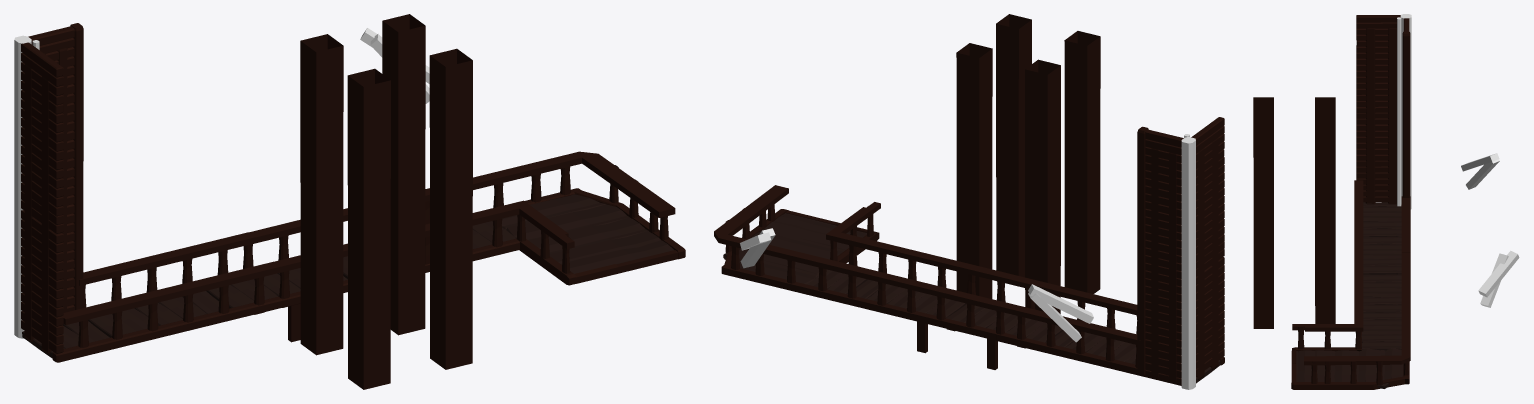
File: Elevators.fbx
3 renders of one model, left to right at view 1: azimuth 30°, elevation 25°; view 2: azimuth 150°, elevation 25°; view 3: azimuth 270°, elevation 25°, orthographic. The views are drawn at different scales.
Visible parts, largest first — view 1: InnerBeam.005, Cube.123, Plank.184, Cube.105, Cube.142, Cube.221, Cube.125, Box093, Cube.143, Cube.201, Cube.202, Cube.122 (+9 smaller); view 2: InnerBeam.005, Cube.123, Box093, Cube.104, Plank.183, Cube.122, Cube.221, Plank.184, Cube.172, Cube.171, Cube.124, Cube.202 (+11 smaller); view 3: InnerBeam.005, Plank.183, Plank.184, Cube.123, Cube.201, Cube.202, Cube.221, Cube.122, Box094, Cube.104, Box093, Cube.142 (+13 smaller).
Part boxes in pixels (<box>): InnerBeam.005: <box>300,14,472,389</box>; Cube.123: <box>244,151,675,245</box>; Plank.184: <box>22,279,277,358</box>; Cube.105: <box>282,238,678,342</box>; Cube.142: <box>62,261,280,325</box>; Cube.221: <box>70,23,83,309</box>; Cube.125: <box>52,296,282,362</box>; Box093: <box>14,35,31,338</box>; Cube.143: <box>79,232,255,285</box>; Cube.201: <box>41,76,51,354</box>; Cube.202: <box>24,64,34,341</box>; Cube.122: <box>274,200,574,272</box>; InnerBeam.005: <box>956,14,1100,313</box>; Cube.123: <box>714,185,1003,312</box>; Box093: <box>1181,137,1195,389</box>; Cube.104: <box>721,209,1005,369</box>; Plank.183: <box>807,269,1017,332</box>; Cube.122: <box>826,202,1039,288</box>; Cube.221: <box>1137,126,1148,375</box>; Plank.184: <box>1006,318,1220,383</box>; Cube.172: <box>1151,148,1159,377</box>; Cube.171: <box>1169,152,1176,381</box>; Cube.124: <box>996,333,1181,385</box>; Cube.202: <box>1196,148,1204,380</box>; InnerBeam.005: <box>1253,97,1335,328</box>; Plank.183: <box>1361,274,1401,350</box>; Plank.184: <box>1363,202,1401,274</box>; Cube.123: <box>1304,252,1410,365</box>; Cube.201: <box>1365,28,1375,204</box>; Cube.202: <box>1388,28,1396,204</box>; Cube.221: <box>1402,31,1410,197</box>; Cube.122: <box>1292,248,1363,331</box>; Box094: <box>1397,17,1401,206</box>; Cube.104: <box>1291,361,1409,389</box>; Box093: <box>1400,14,1411,209</box>; Cube.142: <box>1354,180,1363,248</box>.
Bounding box in the file's own units: 3350 × 1826 × 2041.
